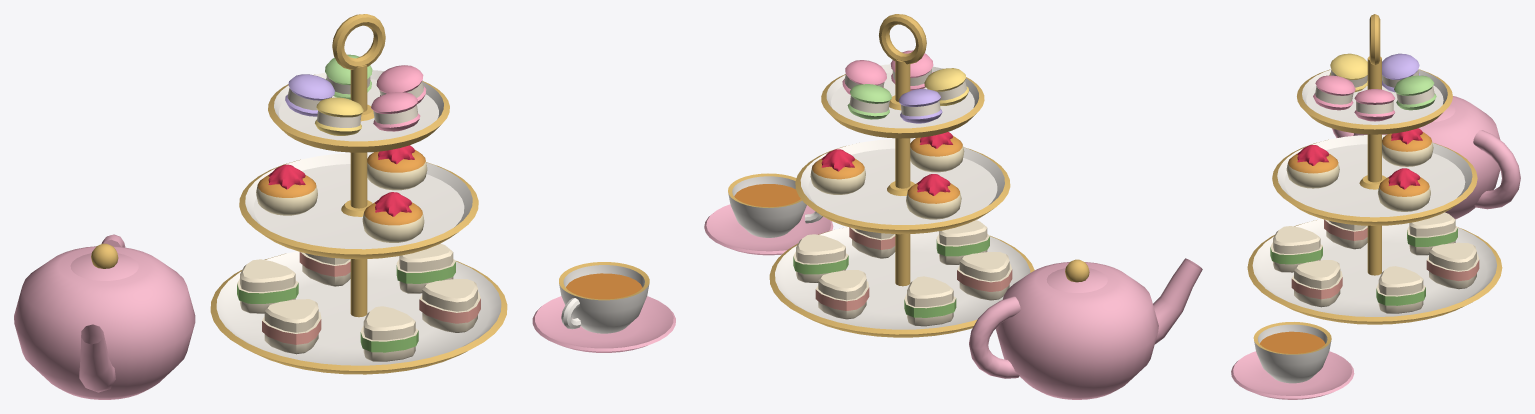
The model's file is AfternoonTeaSet.glb.
3 renders of one model, left to right at view 1: azimuth 30°, elevation 25°; view 2: azimuth 150°, elevation 25°; view 3: azimuth 270°, elevation 25°, orthographic. The views are drawn at different scales.
Parts seen in each view (by area): view 1: AfternoonTeaSet; view 2: AfternoonTeaSet; view 3: AfternoonTeaSet.
Boxes of the visible parts, left/top/right/bottom form: AfternoonTeaSet: left=14, top=14, right=675, bottom=399; AfternoonTeaSet: left=704, top=14, right=1202, bottom=399; AfternoonTeaSet: left=1231, top=14, right=1520, bottom=399.
Bounding box in the file's own units: 2.72 × 1.53 × 1.41.
5 materials, 5 textured.
